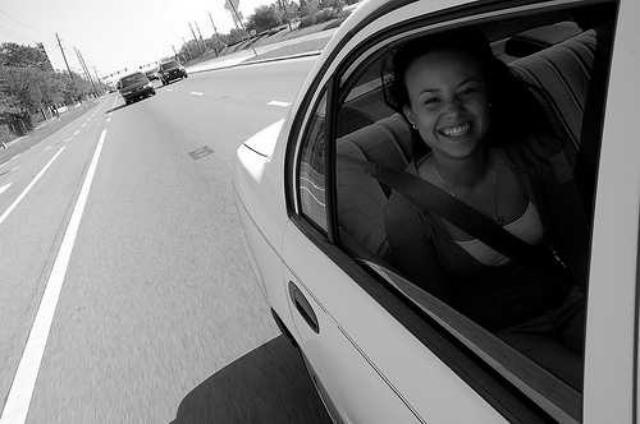SafeDriving: (455, 82, 484, 102), (418, 92, 447, 111)
Seatbelt: (366, 162, 534, 260)
